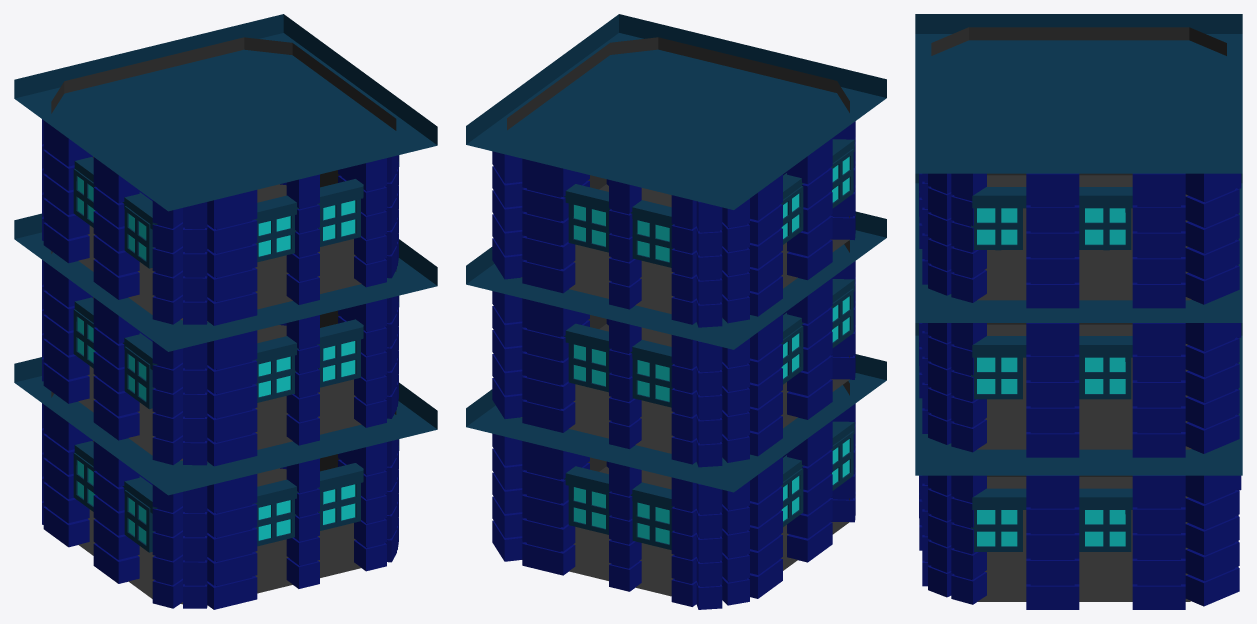
Rendered from buildingBleu2.fbx.
The picture shows the model from 3 angles, left to right: view 1: azimuth 30°, elevation 25°; view 2: azimuth 150°, elevation 25°; view 3: azimuth 270°, elevation 25°; orthographic projection. The views are drawn at different scales.
Visible parts, largest first — view 1: Building.002, betong.001, betong.017, betong.002, Building, Building.001; view 2: Building.002, betong.002, betong.001, betong.017, Building, Building.001; view 3: Building.002, betong.002, betong.017, betong.001, Building, Building.001.
Boxes of the visible parts, x1=… form: Building.002: x1=14, y1=14, x2=437, y2=321; betong.001: x1=42, y1=260, x2=398, y2=466; betong.017: x1=42, y1=403, x2=398, y2=609; betong.002: x1=42, y1=119, x2=398, y2=325; Building: x1=14, y1=357, x2=437, y2=605; Building.001: x1=14, y1=213, x2=437, y2=461; Building.002: x1=466, y1=14, x2=886, y2=313; betong.002: x1=492, y1=121, x2=855, y2=327; betong.001: x1=492, y1=261, x2=855, y2=467; betong.017: x1=492, y1=403, x2=855, y2=609; Building: x1=466, y1=354, x2=886, y2=596; Building.001: x1=466, y1=211, x2=886, y2=453; Building.002: x1=915, y1=14, x2=1242, y2=300; betong.002: x1=919, y1=173, x2=1241, y2=308; betong.017: x1=919, y1=475, x2=1241, y2=609; betong.001: x1=919, y1=323, x2=1241, y2=457; Building: x1=915, y1=323, x2=1242, y2=601; Building.001: x1=915, y1=173, x2=1242, y2=449.
Size of the model in its own units: 2565 by 3914 by 2540.
